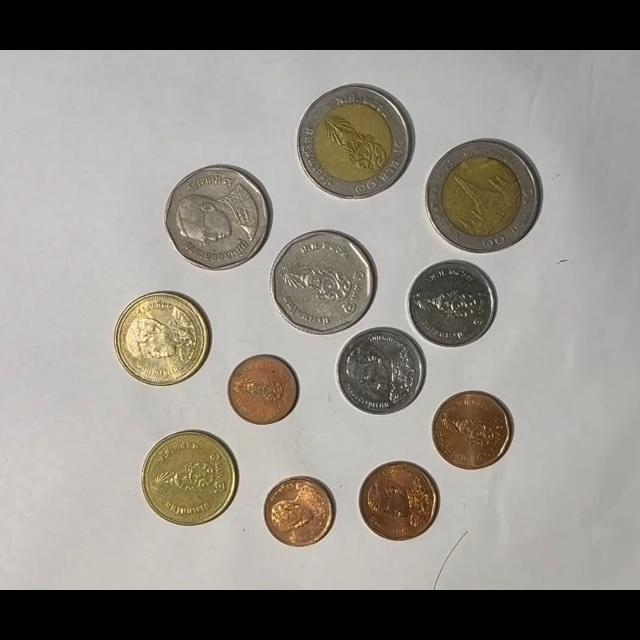1-baht: (336, 326, 426, 416), (407, 260, 497, 348)
10-baht: (297, 83, 414, 200), (425, 139, 541, 253)
2-baht: (141, 430, 238, 526), (114, 291, 209, 387)
25-satang: (263, 476, 335, 548), (227, 354, 298, 425)
5-baht: (164, 166, 271, 271), (271, 230, 376, 335)
50-satang: (358, 461, 440, 542), (431, 391, 513, 470)
